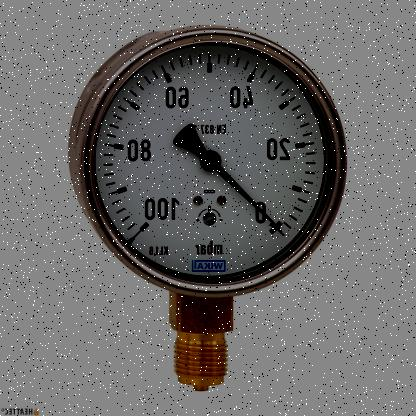needle: (215, 165, 283, 232)
